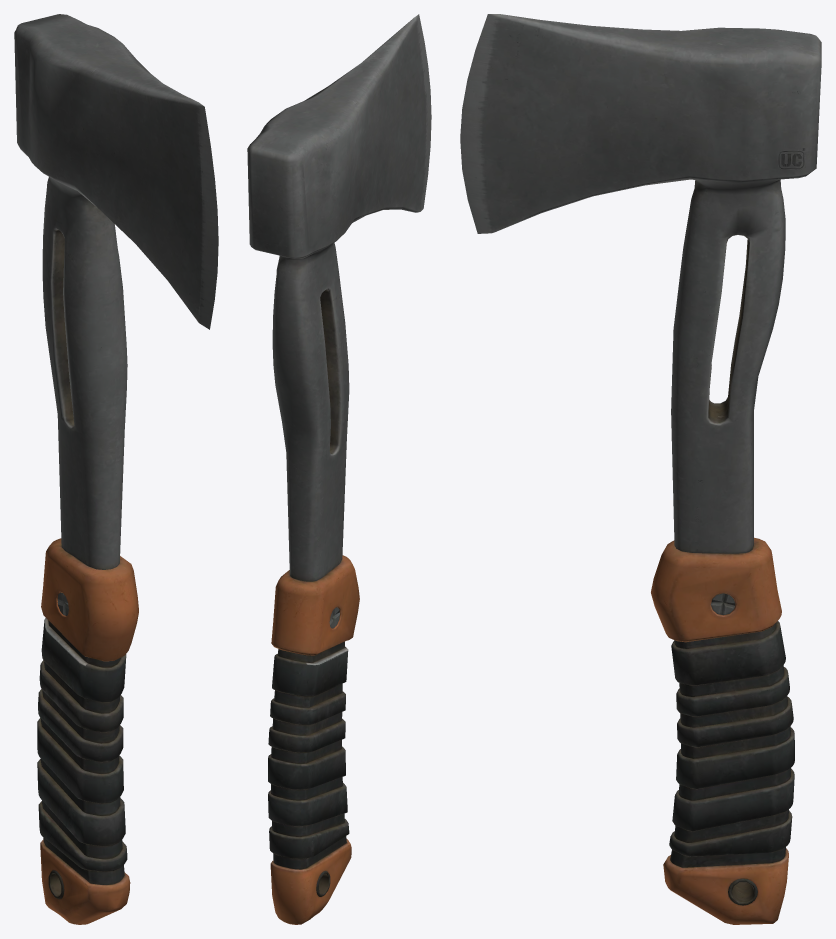
The model's file is hatchet.glb.
The picture shows the model from 3 angles, left to right: view 1: azimuth 30°, elevation 25°; view 2: azimuth 150°, elevation 25°; view 3: azimuth 270°, elevation 25°; orthographic projection. The views are drawn at different scales.
Parts seen in each view (by area): view 1: hatchet; view 2: hatchet; view 3: hatchet.
Part boxes in pixels (x1,y1,x2,y2): hatchet: [14, 14, 218, 924]; hatchet: [247, 14, 431, 924]; hatchet: [460, 14, 821, 924].
Bounding box in the file's own units: 0.0259 × 0.2887 × 0.1043.
1 material, 1 textured.
